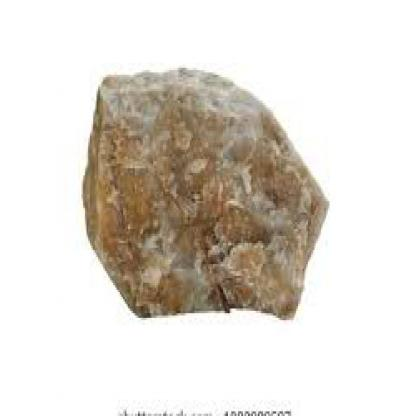Metamorphic_Quartize: (71, 60, 328, 322)
